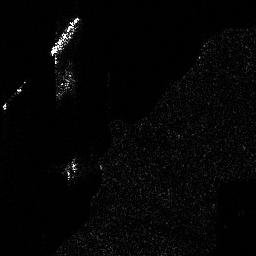ship: (51, 15, 80, 55), (2, 80, 27, 111)
